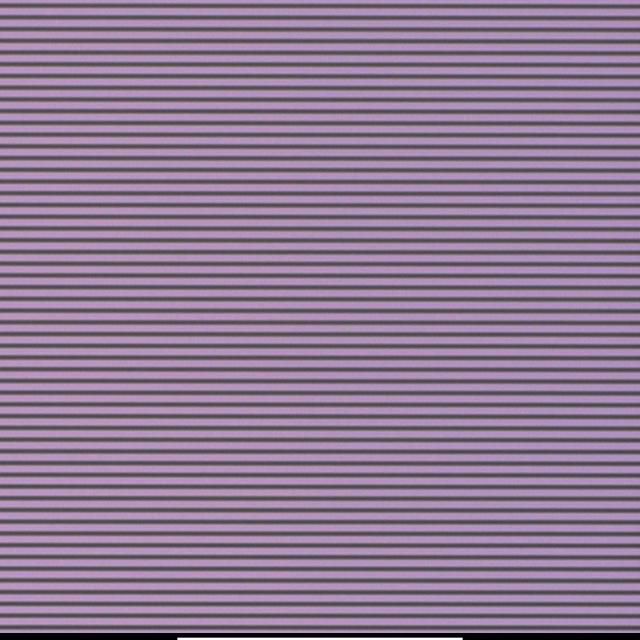nonvisual: (314, 284, 320, 291)
